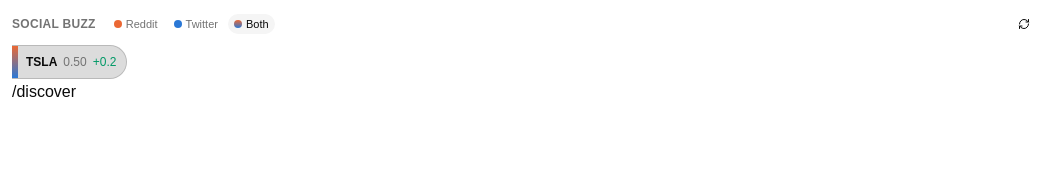
Test: a ticker stronger on Reddit opens the stock page Social tab on that platform
The width and height of the screenshot is (1048, 172).
What coordinates should you click on to do the following:
click the button "TSLA 0.50 +0.2"
I would click on:
 (69, 62)
Its box is [12,46,126,78].
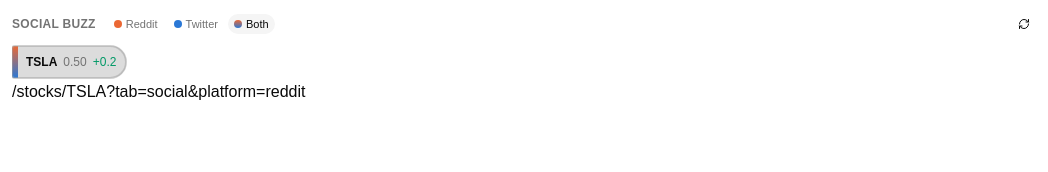
expect the text named "Current location" reads "/stocks/TSLA?tab=social&platform=reddit": met, box [12,83,306,100]
